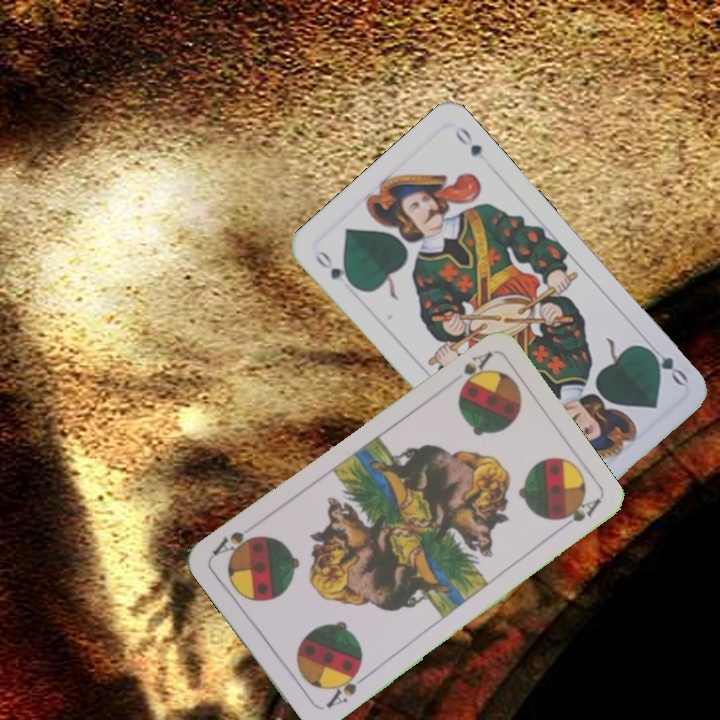GO: (640, 343, 691, 388), (310, 246, 359, 291)
SA: (322, 664, 369, 711), (453, 347, 496, 397)
